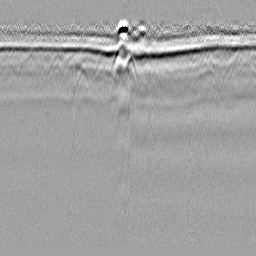cavity: (124, 52, 140, 92)
